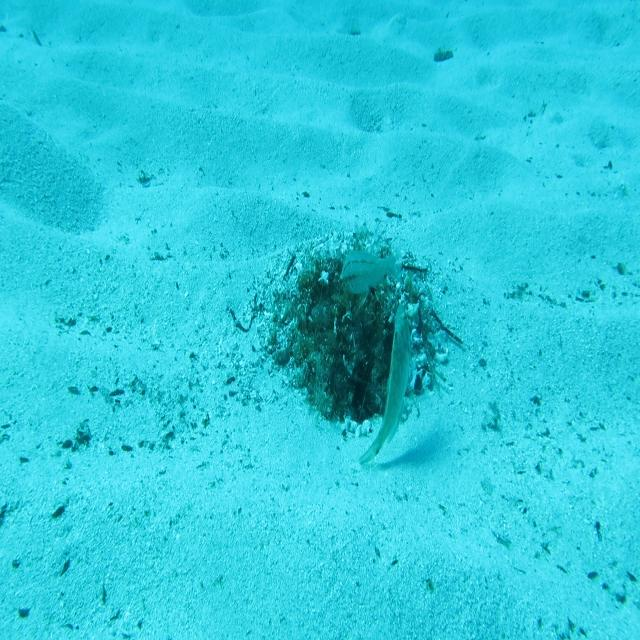GB: (358, 298, 414, 470)
core_nest: (317, 275, 373, 321)
female: (338, 236, 405, 299)
nest: (238, 203, 458, 445)
vegetation: (433, 48, 455, 62)
